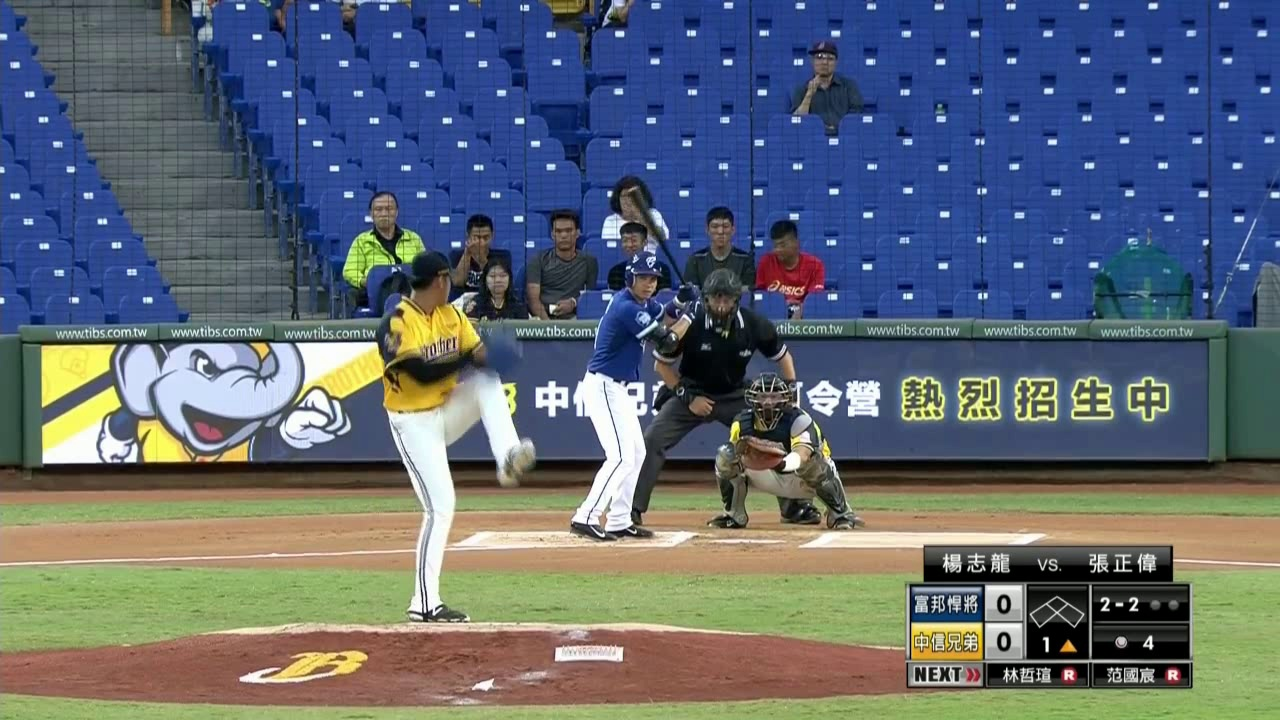base: (1028, 591, 1087, 628)
bat: (625, 183, 688, 285)
out: (1146, 595, 1180, 613)
score1: (984, 585, 1023, 621)
score2: (985, 622, 1024, 658)
session: (1035, 634, 1079, 654)
strikeball: (1097, 592, 1141, 615)
total: (1106, 630, 1159, 653)
